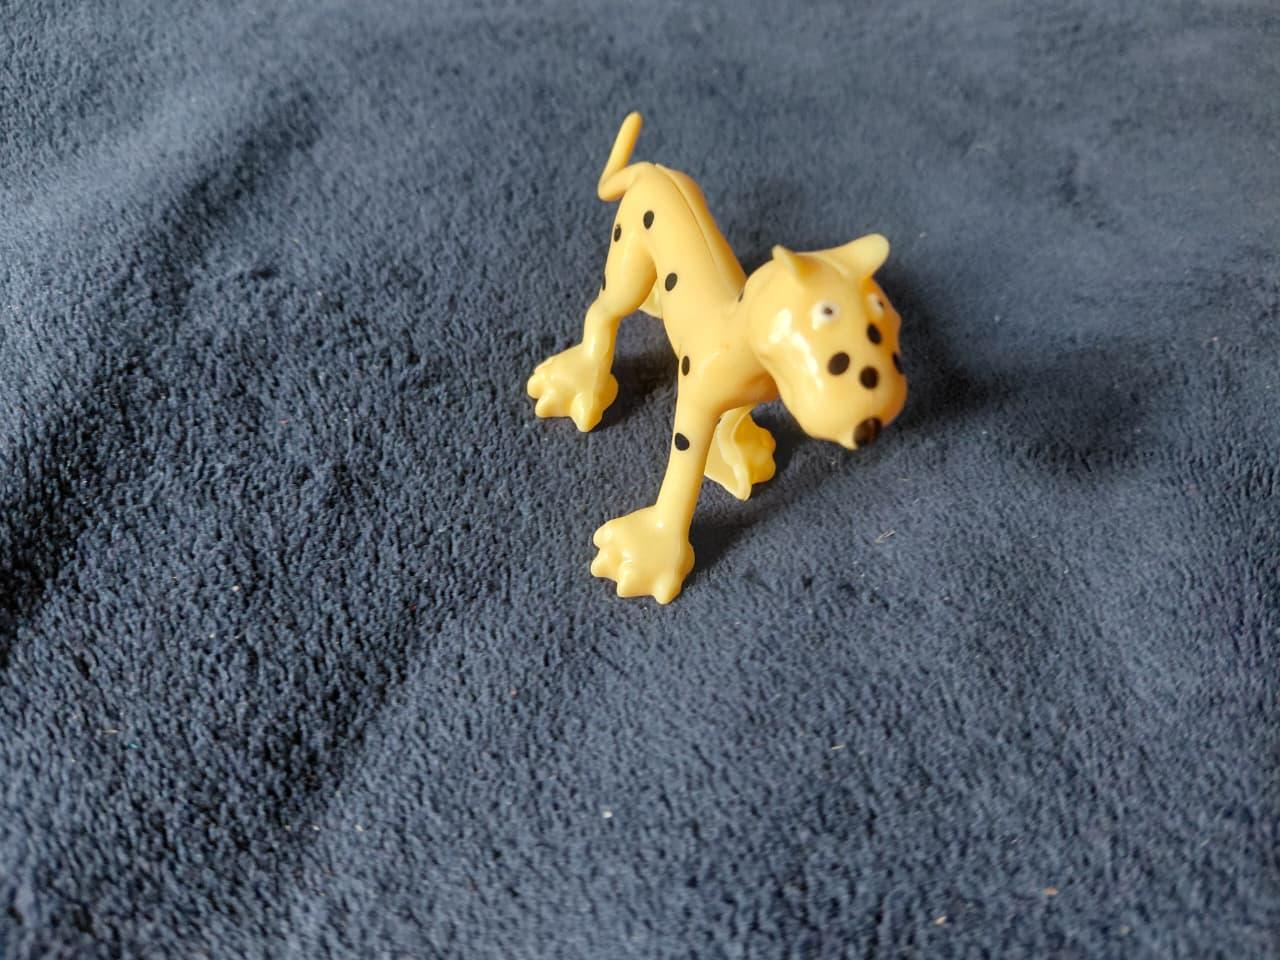cheetah: (530, 77, 948, 620)
